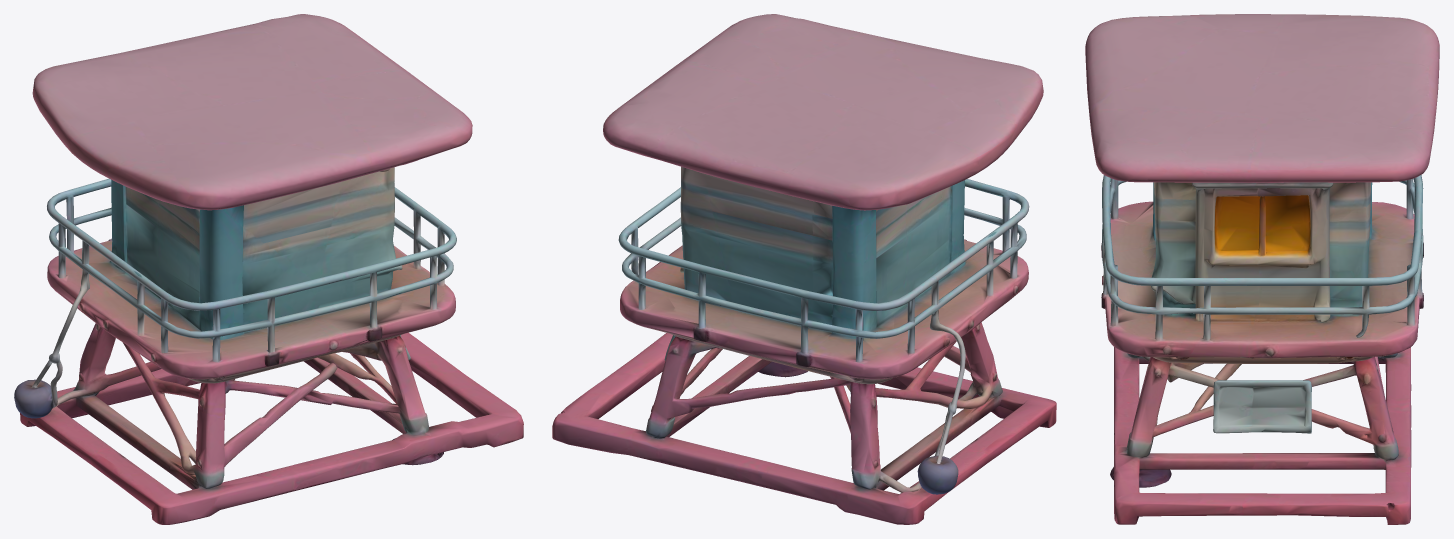
Rendered from lifeguard-tower-diet.glb.
The picture shows the model from 3 angles, left to right: view 1: azimuth 30°, elevation 25°; view 2: azimuth 150°, elevation 25°; view 3: azimuth 270°, elevation 25°; orthographic projection.
Visible parts, largest first — view 1: tripo_node_3f21876e-e84c-4bbc-bebc-5f0ed7a02295; view 2: tripo_node_3f21876e-e84c-4bbc-bebc-5f0ed7a02295; view 3: tripo_node_3f21876e-e84c-4bbc-bebc-5f0ed7a02295.
Boxes of the visible parts, x1,y1,x2,y2 form: tripo_node_3f21876e-e84c-4bbc-bebc-5f0ed7a02295: [14, 14, 523, 524]; tripo_node_3f21876e-e84c-4bbc-bebc-5f0ed7a02295: [552, 14, 1056, 524]; tripo_node_3f21876e-e84c-4bbc-bebc-5f0ed7a02295: [1085, 14, 1439, 524].
Bounding box in the file's own units: 0.9996 × 0.8413 × 0.7902.
Materials: 1 (1 with a texture image).
